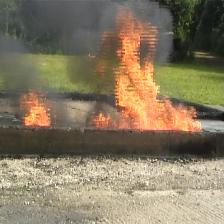fire: (89, 9, 203, 131), (22, 90, 52, 127)
